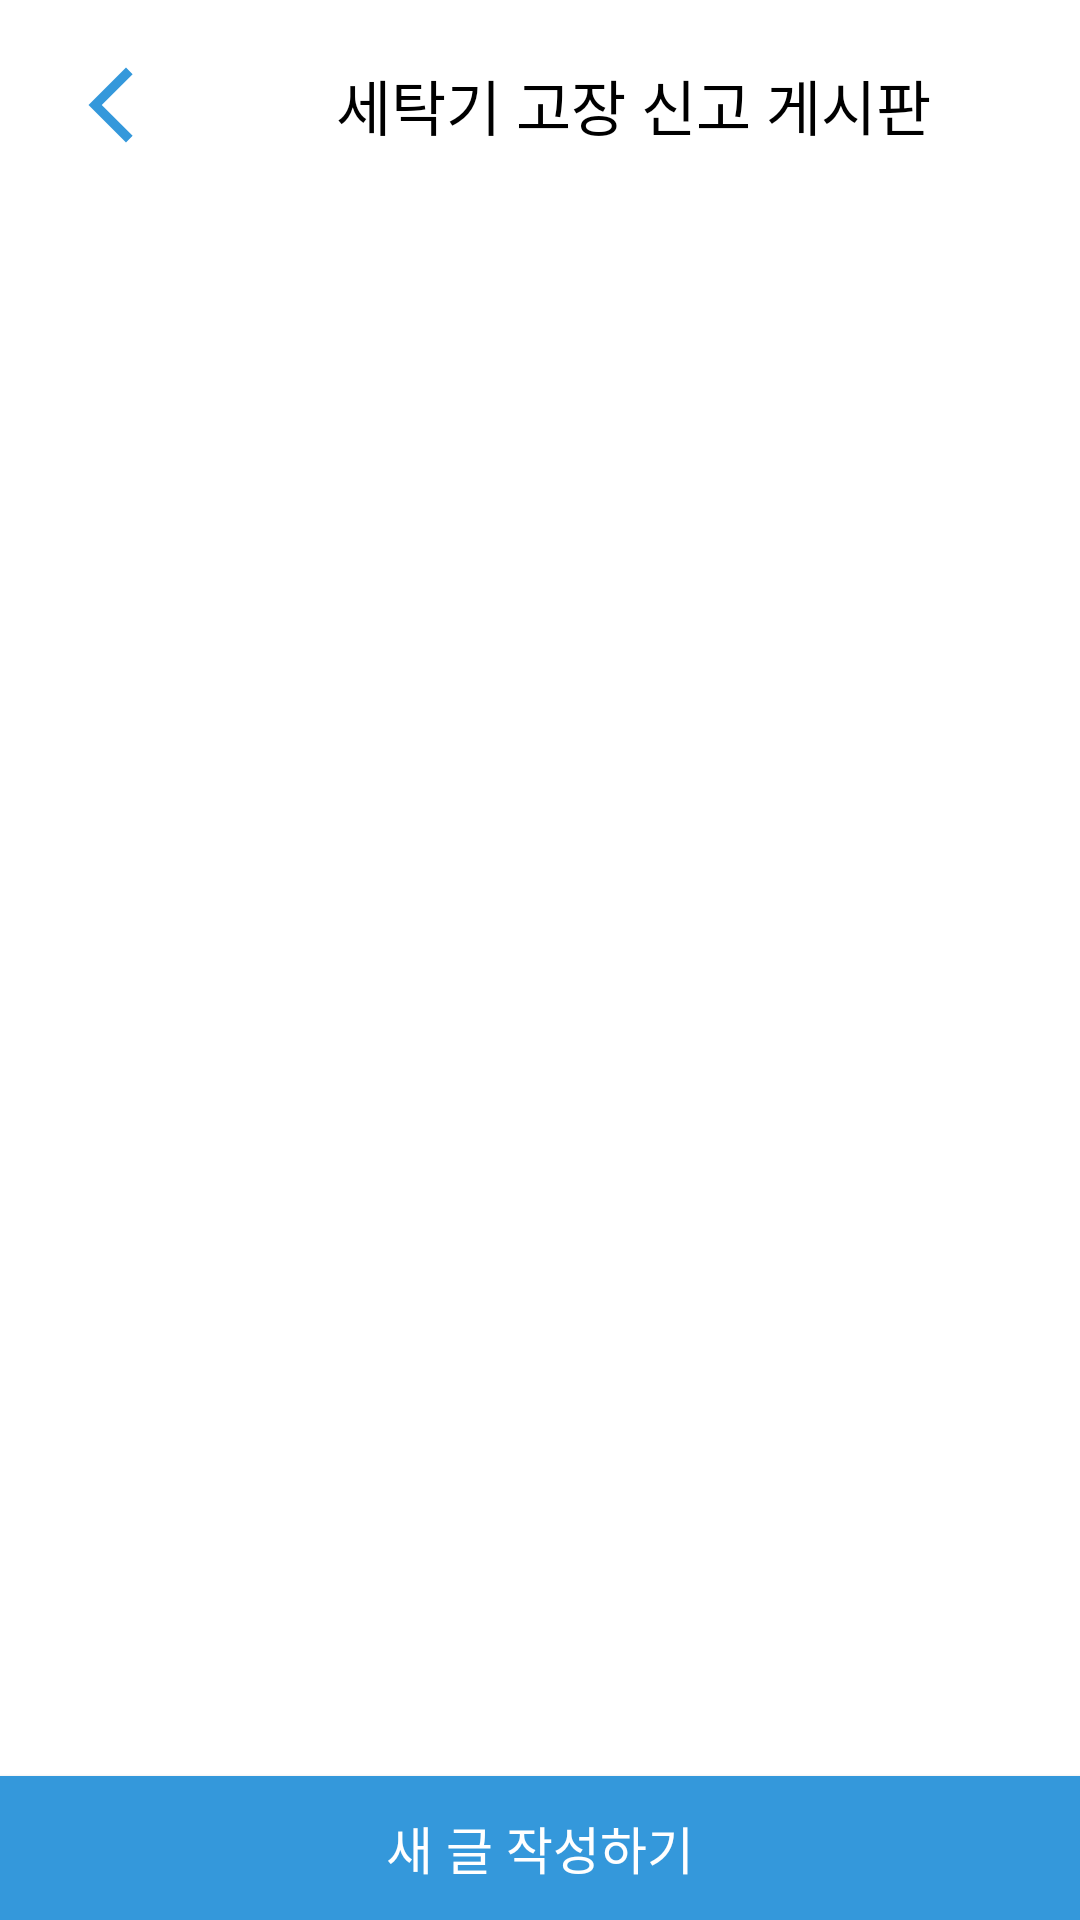

Icon click points for this 1080px x 1920px phone screenshot, format point (x, y):
back: point (111, 105)
